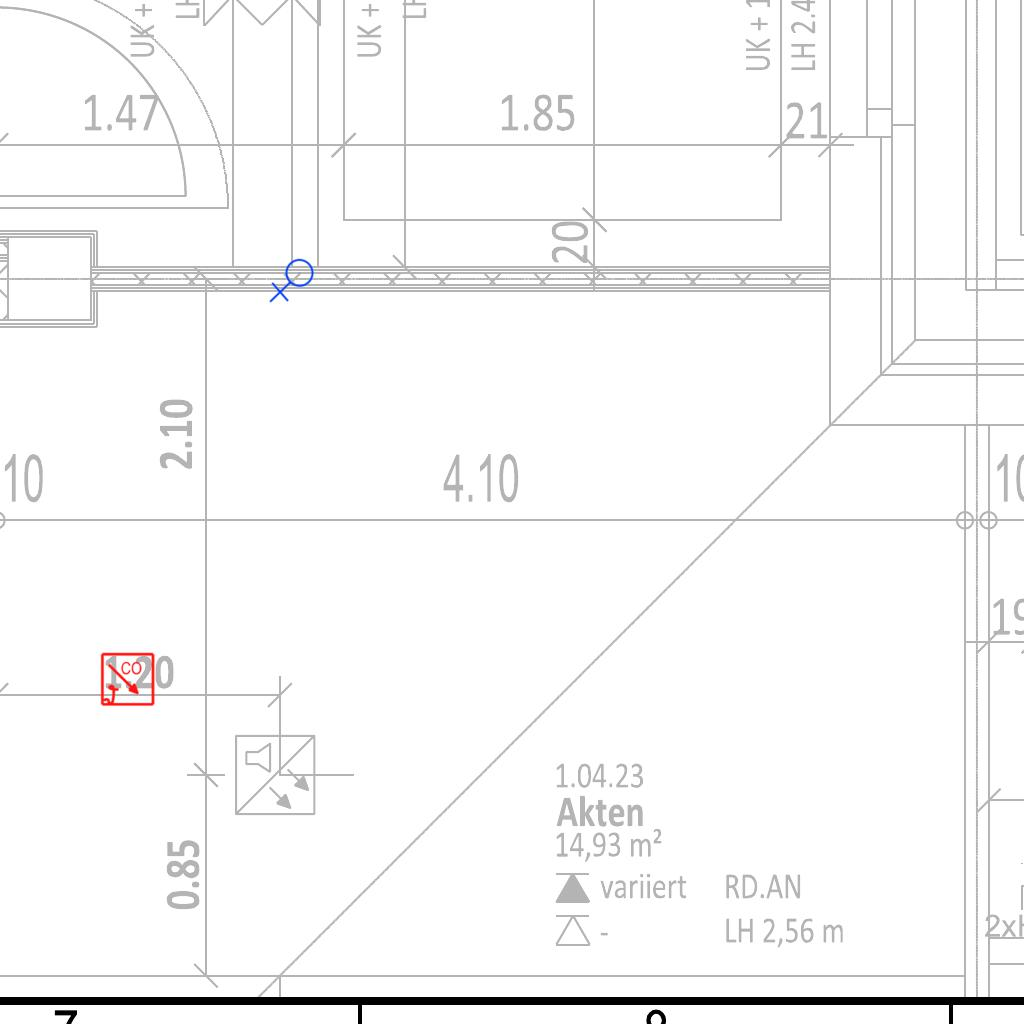Elektroanschluss_allgemein_230V_Geraeteanschlussdose_230V: (269, 258, 318, 305)
ROA_Rauchmelder_optisch_mit_Signalgeber_(Sockelsirene): (100, 652, 156, 708)
